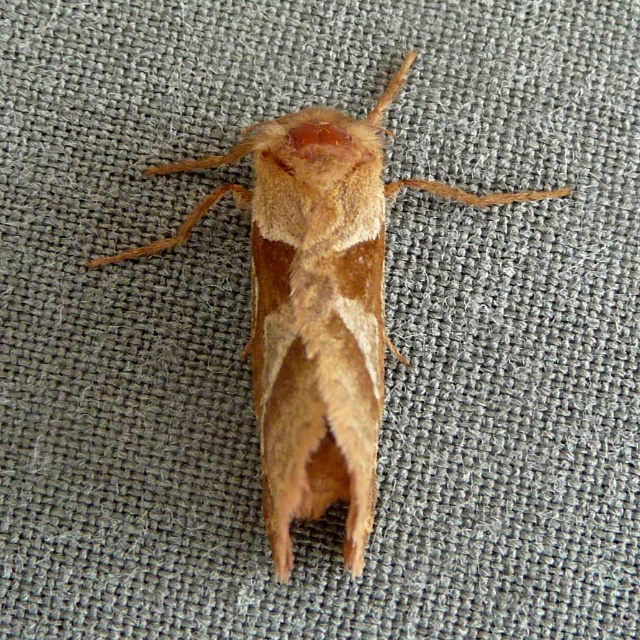Moths and butterflies: (84, 41, 570, 587)
